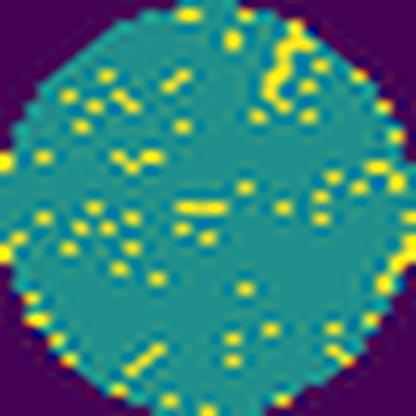Scratch: (258, 21, 319, 115), (169, 194, 234, 223)
